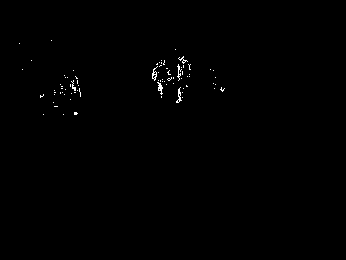person: (151, 58, 173, 97), (175, 55, 192, 105)
